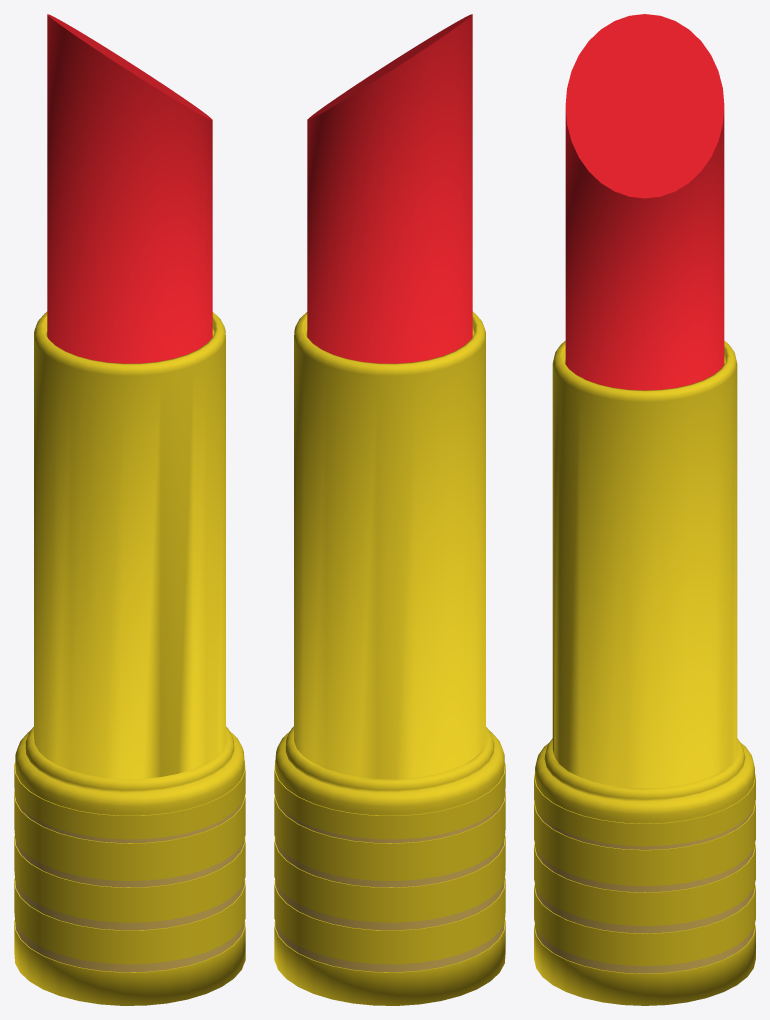
File: Lipstick (1).fbx
The picture shows the model from 3 angles, left to right: view 1: azimuth 30°, elevation 25°; view 2: azimuth 150°, elevation 25°; view 3: azimuth 270°, elevation 25°; orthographic projection. The views are drawn at different scales.
Parts seen in each view (by area): view 1: Lipstick; view 2: Lipstick; view 3: Lipstick.
Part boxes in pixels (x1,y1,x2,y2): Lipstick: (14, 14, 245, 1005); Lipstick: (274, 14, 505, 1005); Lipstick: (534, 14, 755, 1005).
Size of the model in its own units: 8.59 by 38.92 by 8.59.
